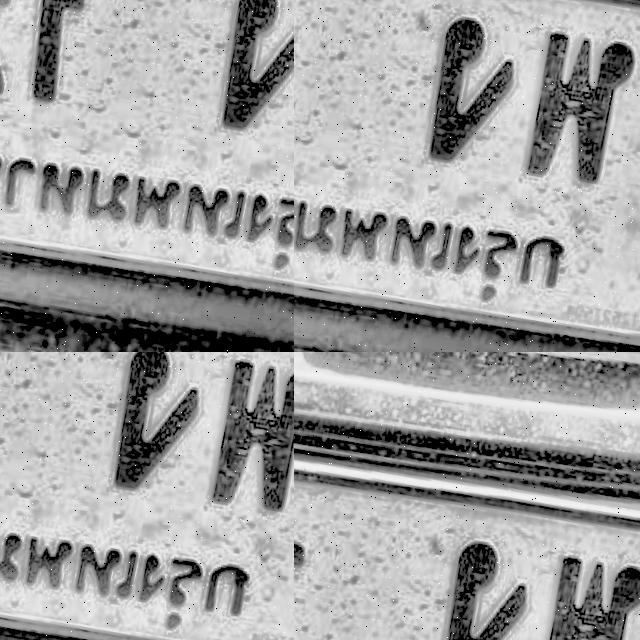license-plate: (294, 397, 640, 640), (0, 352, 294, 519)
